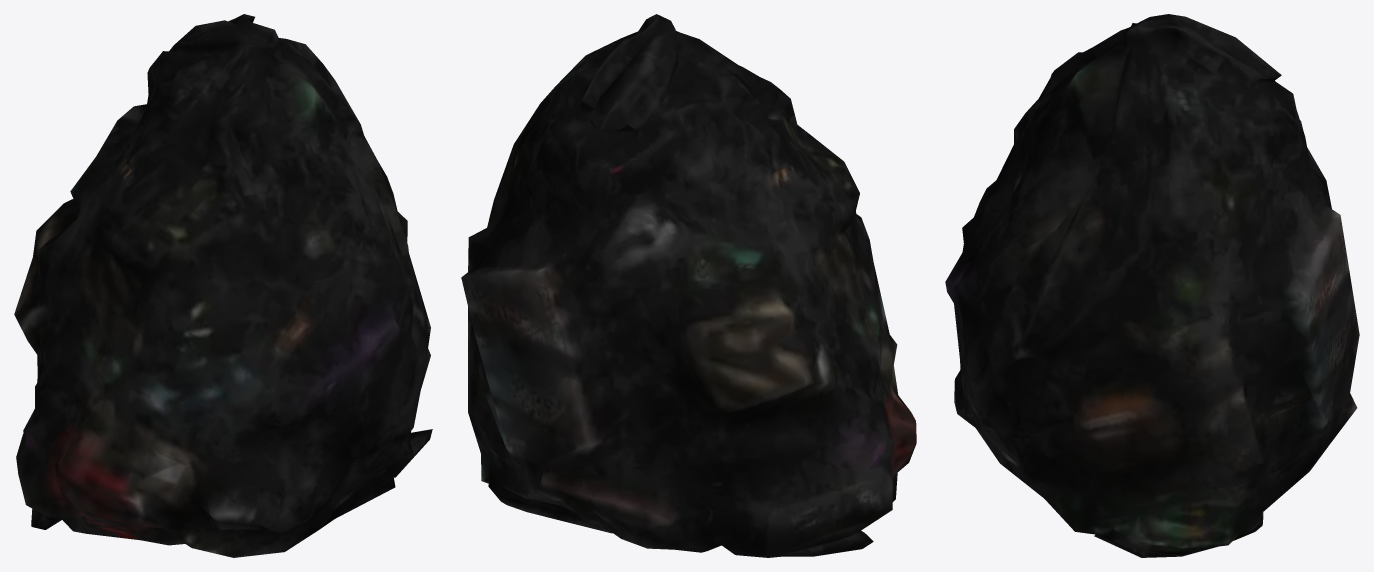
Rendered from trashbag.glb.
3 renders of one model, left to right at view 1: azimuth 30°, elevation 25°; view 2: azimuth 150°, elevation 25°; view 3: azimuth 270°, elevation 25°, orthographic. The views are drawn at different scales.
Visible parts, largest first — view 1: trashbag; view 2: trashbag; view 3: trashbag.
Boxes of the visible parts, x1,y1,x2,y2 form: trashbag: [14, 14, 432, 557]; trashbag: [461, 14, 916, 557]; trashbag: [945, 14, 1359, 557].
Bounding box in the file's own units: 0.5281 × 0.5725 × 0.4629.
Materials: 1 (1 with a texture image).
